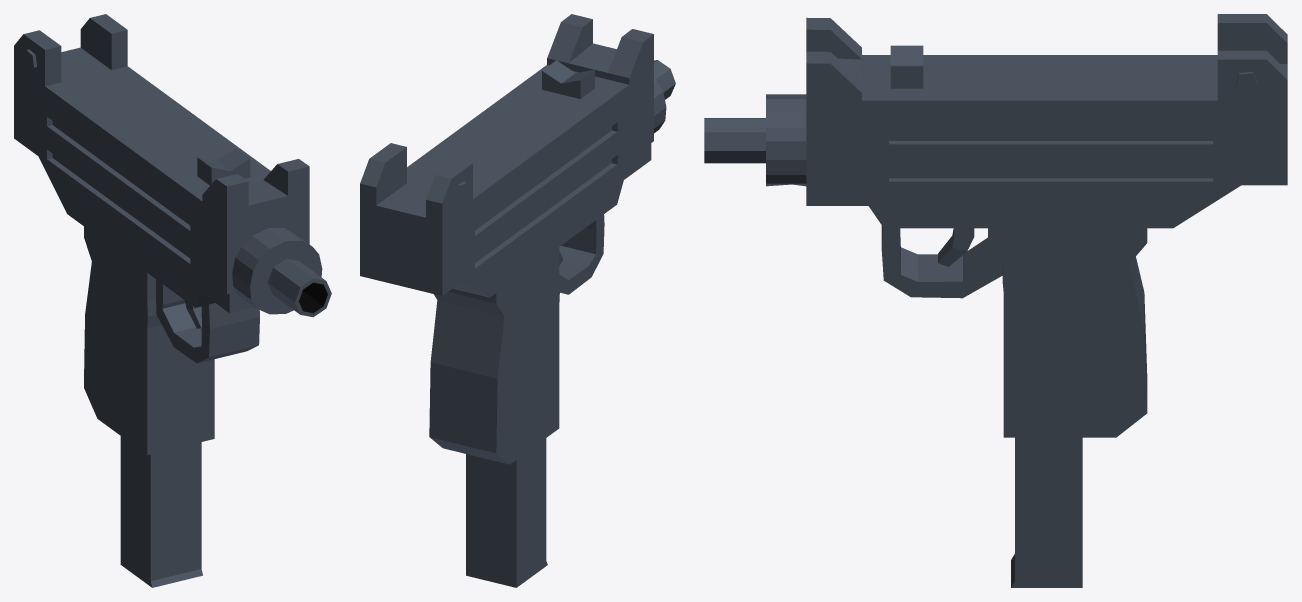
Rendered from UZI.fbx.
3 renders of one model, left to right at view 1: azimuth 30°, elevation 25°; view 2: azimuth 150°, elevation 25°; view 3: azimuth 270°, elevation 25°, orthographic. The views are drawn at different scales.
Parts seen in each view (by area): view 1: GUN, CLIP; view 2: GUN, CLIP; view 3: GUN, CLIP.
Part boxes in pixels (left/top/right/bottom): GUN: left=14, top=14, right=331, bottom=455; CLIP: left=120, top=436, right=202, bottom=587; GUN: left=360, top=14, right=675, bottom=464; CLIP: left=466, top=438, right=547, bottom=587; GUN: left=704, top=14, right=1287, bottom=437; CLIP: left=1011, top=437, right=1082, bottom=587.
Bounding box in the file's own units: 6.9 × 35.23 × 34.68.
Materials: 1 (1 with a texture image).
